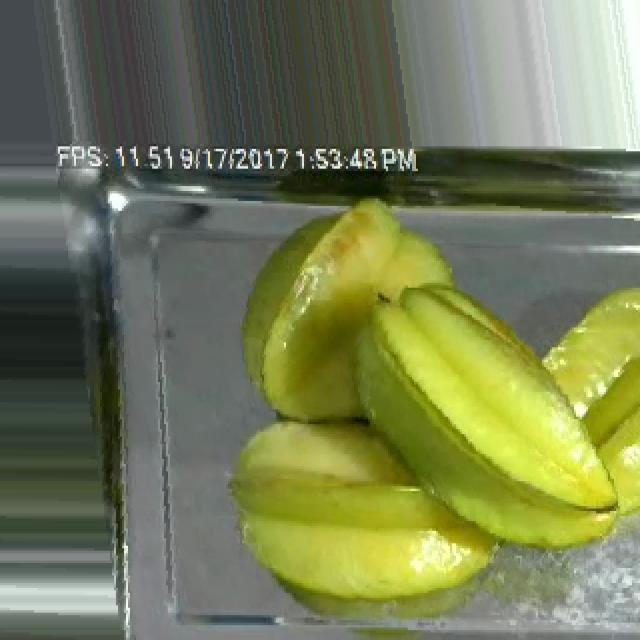fruit: (332, 266, 638, 576), (214, 404, 508, 630), (244, 191, 466, 437), (154, 0, 438, 181)
